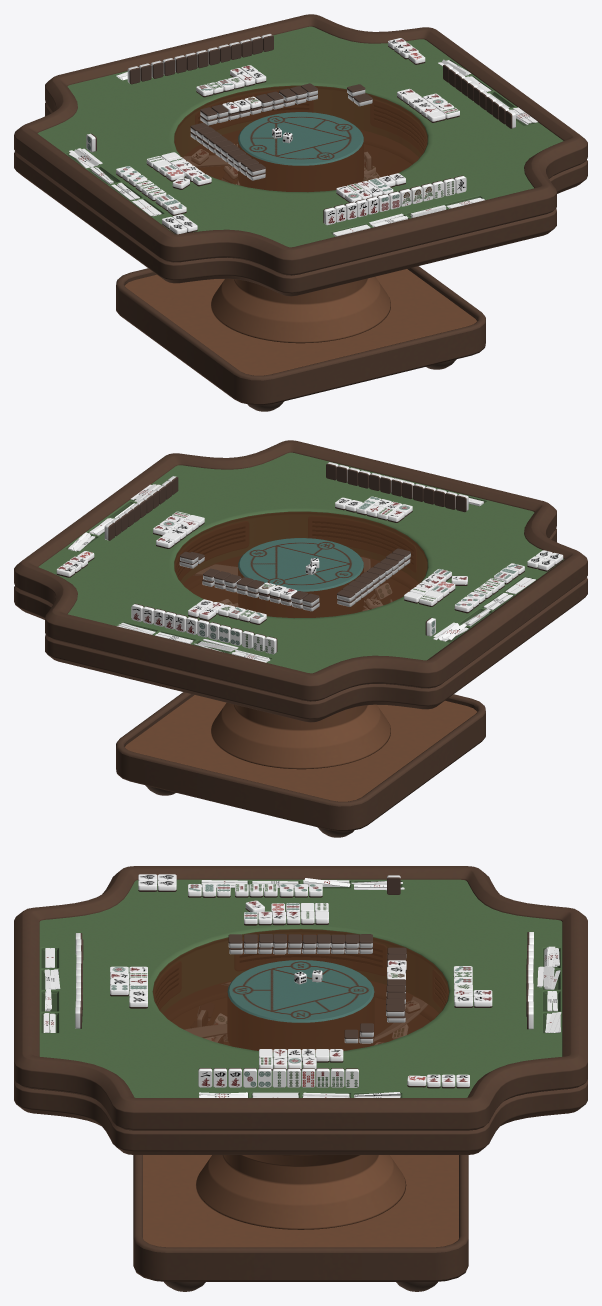
File: riichi_mahjong.glb
3 views of the same model, one above another, from view 1: azimuth 30°, elevation 25°; view 2: azimuth 150°, elevation 25°; view 3: azimuth 270°, elevation 25° (orthographic). The views are drawn at different scales.
Visible parts, largest first — view 1: bodyTable_4, bodyTable_1, bot2, glass, mid, twist, insideExtra008_2, top, shdrop; view 2: bodyTable_4, bodyTable_1, bot2, glass, mid, twist, insideExtra008_2, top, insideExtra008_1; view 3: bodyTable_4, bodyTable_1, bot2, glass, mid, twist, insideExtra008_2, top, shdrop, shaker, bot.
Boxes of the visible parts, bbox=[...] form: bodyTable_4: bbox=[37, 26, 563, 247]; bodyTable_1: bbox=[14, 14, 587, 296]; bot2: bbox=[116, 266, 485, 405]; glass: bbox=[174, 85, 427, 192]; mid: bbox=[211, 277, 390, 343]; twist: bbox=[238, 112, 363, 191]; insideExtra008_2: bbox=[175, 91, 426, 154]; top: bbox=[198, 144, 411, 183]; shdrop: bbox=[192, 144, 379, 184]; bodyTable_4: bbox=[38, 452, 564, 673]; bodyTable_1: bbox=[14, 440, 587, 722]; bot2: bbox=[116, 692, 485, 831]; glass: bbox=[174, 511, 427, 618]; mid: bbox=[211, 703, 390, 769]; twist: bbox=[238, 538, 363, 617]; insideExtra008_2: bbox=[175, 516, 415, 580]; top: bbox=[190, 579, 409, 609]; insideExtra008_1: bbox=[178, 521, 412, 575]; bodyTable_4: bbox=[39, 879, 562, 1097]; bodyTable_1: bbox=[14, 866, 587, 1154]; bot2: bbox=[133, 1155, 468, 1281]; glass: bbox=[152, 929, 449, 1053]; mid: bbox=[195, 1155, 406, 1229]; twist: bbox=[227, 960, 374, 1050]; insideExtra008_2: bbox=[154, 934, 447, 1009]; top: bbox=[172, 998, 429, 1044]; shdrop: bbox=[191, 1001, 419, 1044]; shaker: bbox=[186, 982, 427, 1040]; bot: bbox=[164, 1281, 437, 1291].
Bounding box in the file's own units: 5 × 2.57 × 5.
5 materials, 4 textured.
